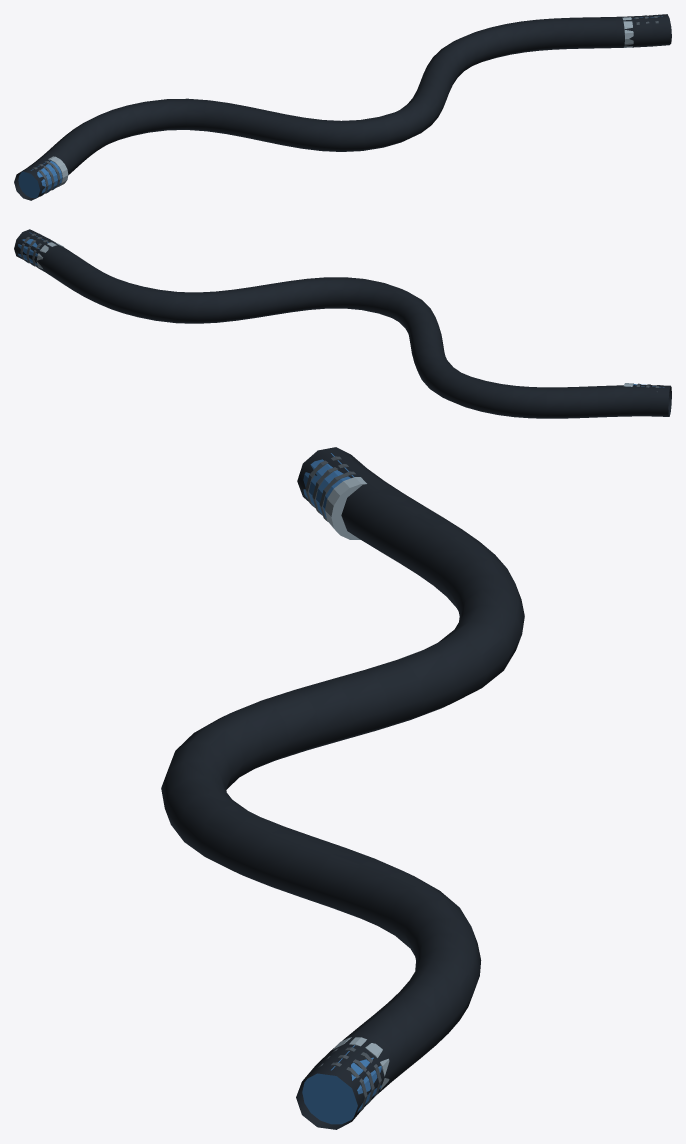
File: cable.glb
3 views of the same model, one above another, from view 1: azimuth 30°, elevation 25°; view 2: azimuth 150°, elevation 25°; view 3: azimuth 270°, elevation 25° (orthographic). The views are drawn at different scales.
Visible parts, largest first — view 1: cable; view 2: cable; view 3: cable.
Part boxes in pixels (x1,y1,x2,y2): cable: (14, 14, 671, 200); cable: (14, 229, 671, 418); cable: (161, 447, 524, 1129).
Bounding box in the file's own units: 1.02 × 0.0418 × 0.2455.
